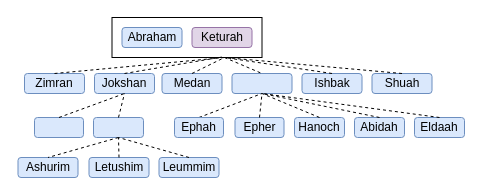
This 482x195 diagram has some shape labels left out. The centre of each missing label's shape, as x and y in pixels:
Dedan: point 118,127
Midian: point 261,83
Sheba: point 59,127
